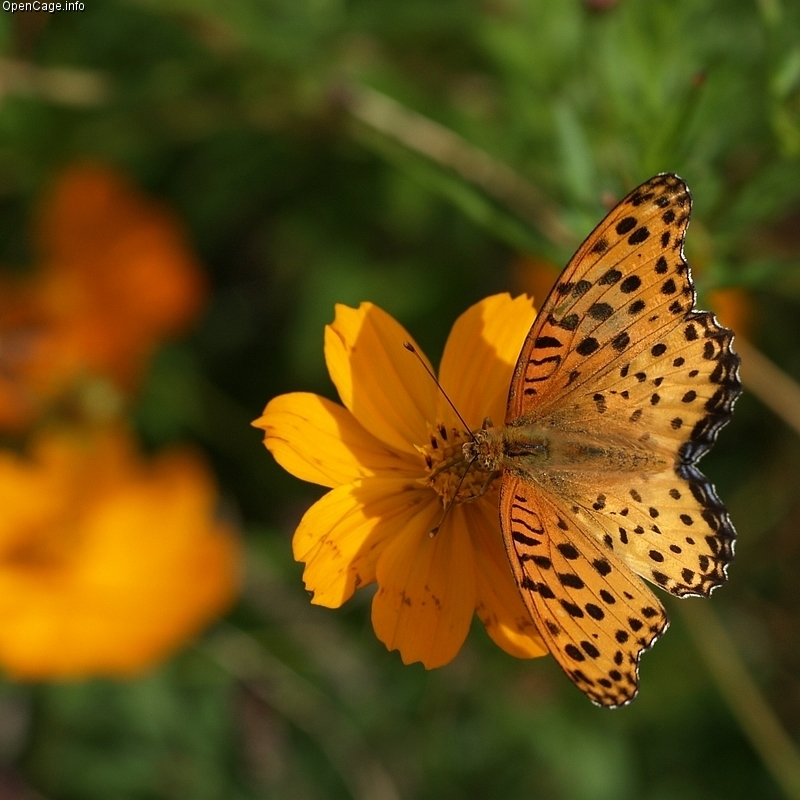Argyreus hyperbius: (401, 154, 745, 713)
butterfly: (403, 156, 747, 715)
